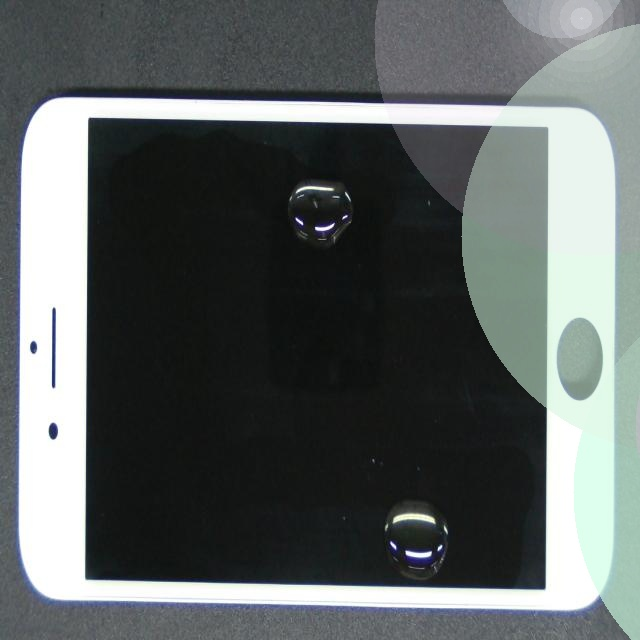oil: (257, 278, 640, 640), (197, 116, 523, 280)
